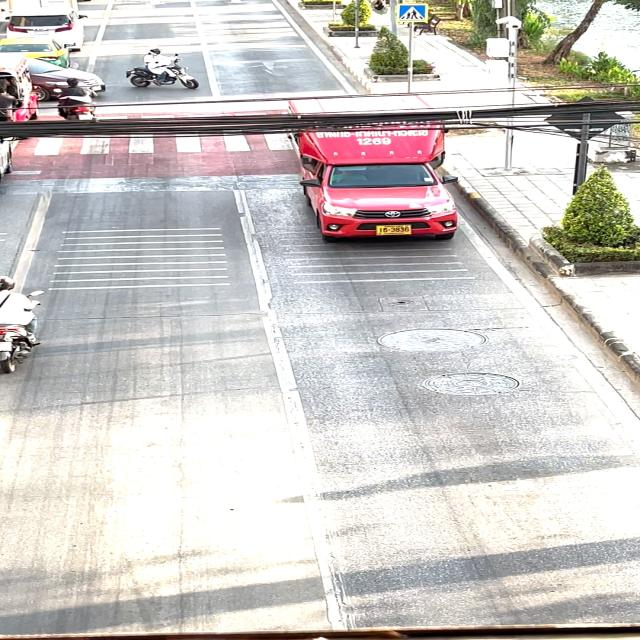car: (279, 86, 476, 250)
